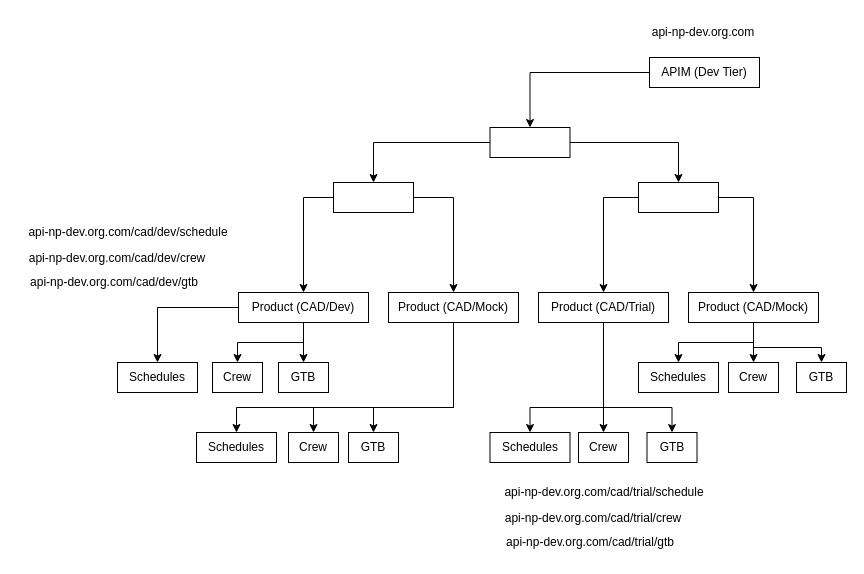
Image size: 864x574. Some labels were removed from this diagram. The shapes that lost their labels are listed below. From the top down, each one's centre as x and y in pixels, then its label:
point 529,142: CAD (BU)
point 373,197: Env (Dev)
point 678,197: Env (Trial)
